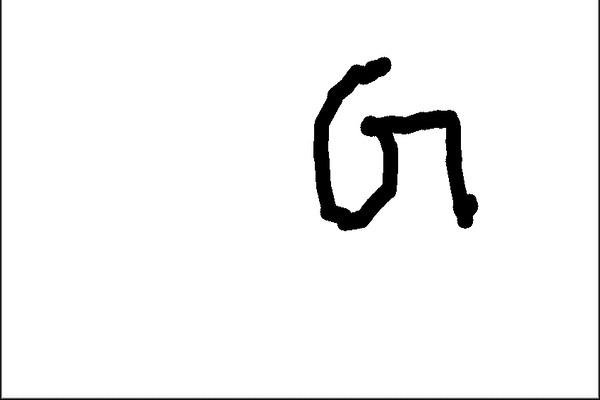G: (307, 48, 483, 239)
